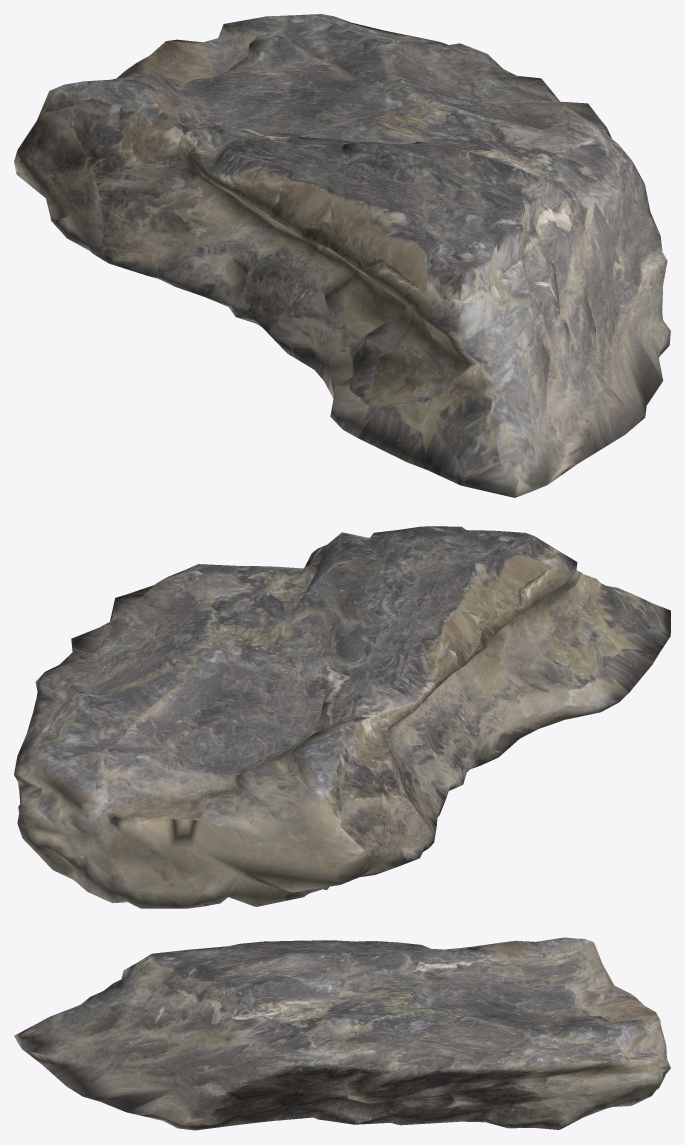
Rendered from slab_b_lod1.glb.
3 views of the same model, one above another, from view 1: azimuth 30°, elevation 25°; view 2: azimuth 150°, elevation 25°; view 3: azimuth 270°, elevation 25° (orthographic). The views are drawn at different scales.
Visible parts, largest first — view 1: slab_b_lod1; view 2: slab_b_lod1; view 3: slab_b_lod1.
Part boxes in pixels (x1,y1,x2,y2): slab_b_lod1: (14, 14, 670, 497); slab_b_lod1: (14, 526, 670, 908); slab_b_lod1: (14, 937, 670, 1130).
Bounding box in the file's own units: 4.44 × 1.7 × 8.61.
1 material, 1 textured.
